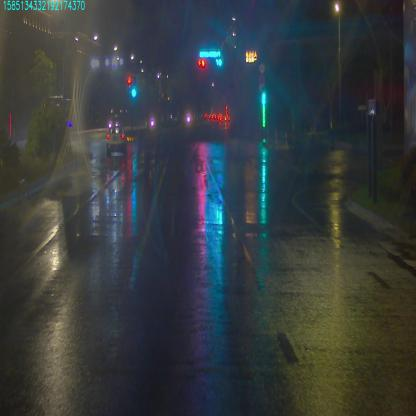traffic-light: (199, 49, 220, 57), (198, 58, 206, 66), (216, 59, 223, 66)
